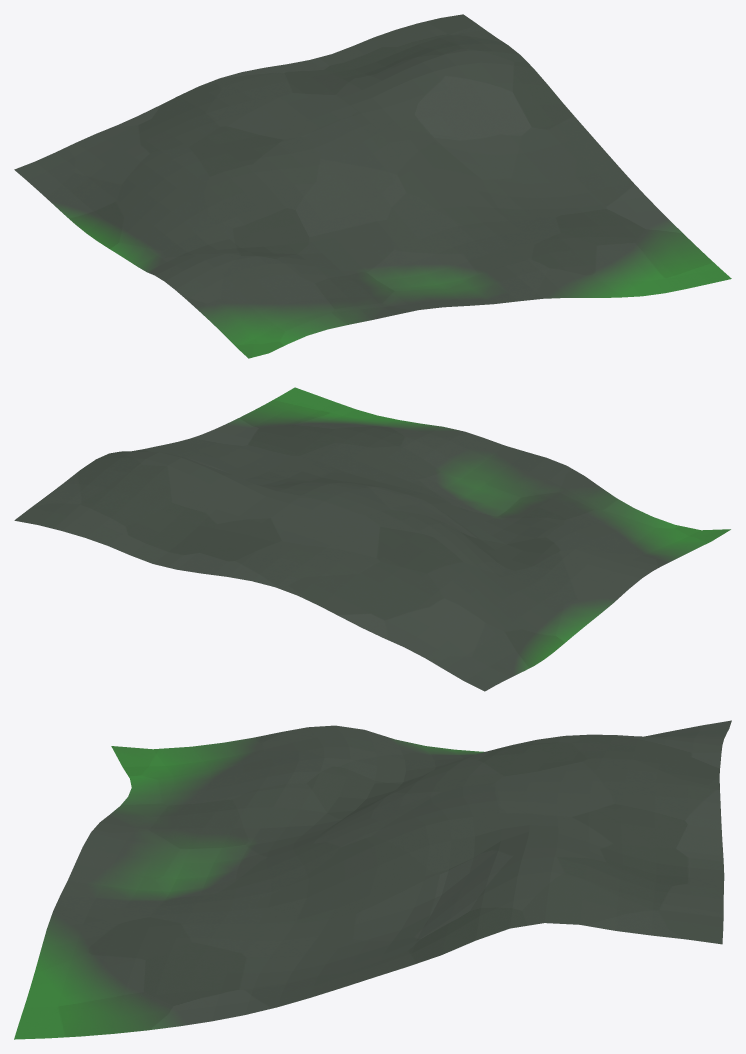
Rendered from Hill_5.glb.
The picture shows the model from 3 angles, top to bottom: view 1: azimuth 30°, elevation 25°; view 2: azimuth 150°, elevation 25°; view 3: azimuth 270°, elevation 25°; orthographic projection. The views are drawn at different scales.
Visible parts, largest first — view 1: Hill_5; view 2: Hill_5; view 3: Hill_5.
Part boxes in pixels (x1,y1,x2,y2): Hill_5: (14, 14, 731, 358); Hill_5: (14, 387, 730, 691); Hill_5: (14, 720, 731, 1039).
Size of the model in its own units: 14.16 by 2.96 by 14.7.
1 material, 1 textured.
